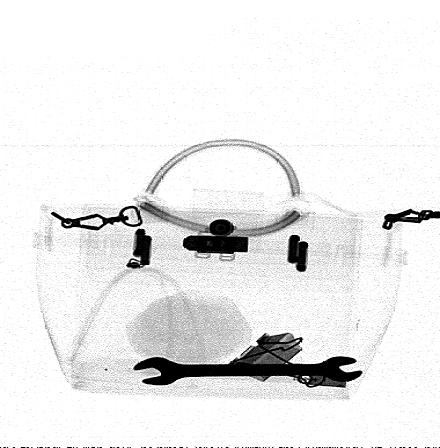Wrench: (132, 354, 365, 388)
